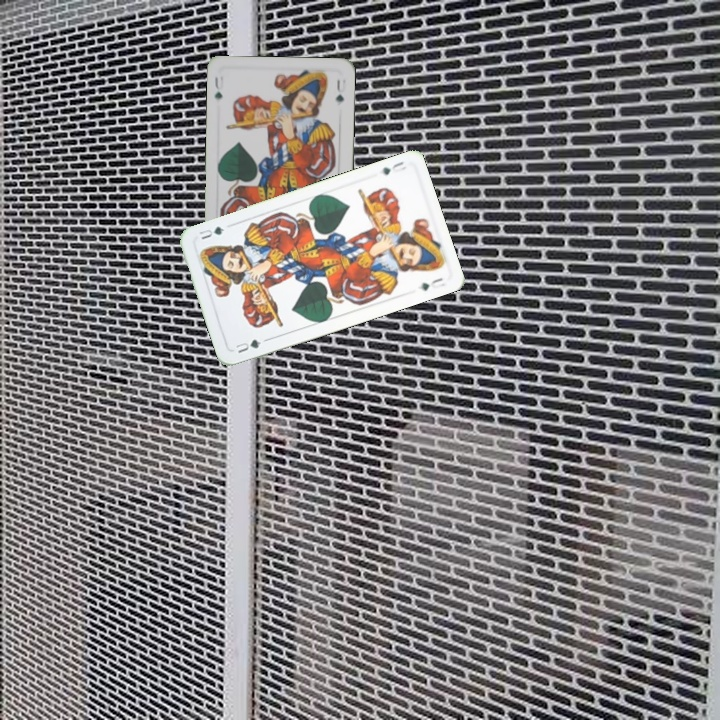GU: (231, 335, 264, 356), (378, 157, 409, 178), (210, 72, 226, 102)
